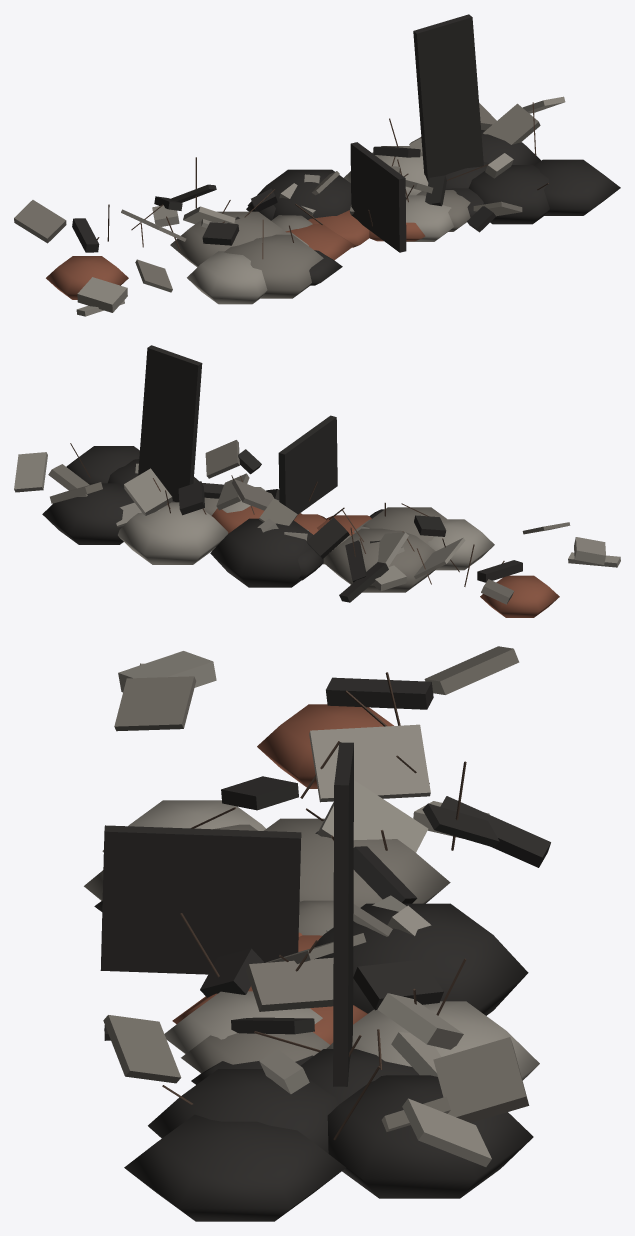
Rendered from rubble_3x1.glb.
The picture shows the model from 3 angles, top to bottom: view 1: azimuth 30°, elevation 25°; view 2: azimuth 150°, elevation 25°; view 3: azimuth 270°, elevation 25°; orthographic projection. The views are drawn at different scales.
Visible parts, largest first — view 1: rubble_3x1; view 2: rubble_3x1; view 3: rubble_3x1.
Part boxes in pixels (bbox=[...]): rubble_3x1: bbox=[14, 14, 620, 316]; rubble_3x1: bbox=[14, 345, 620, 617]; rubble_3x1: bbox=[84, 646, 550, 1221].
Size of the model in its own units: 29.27 by 9.85 by 11.12.
